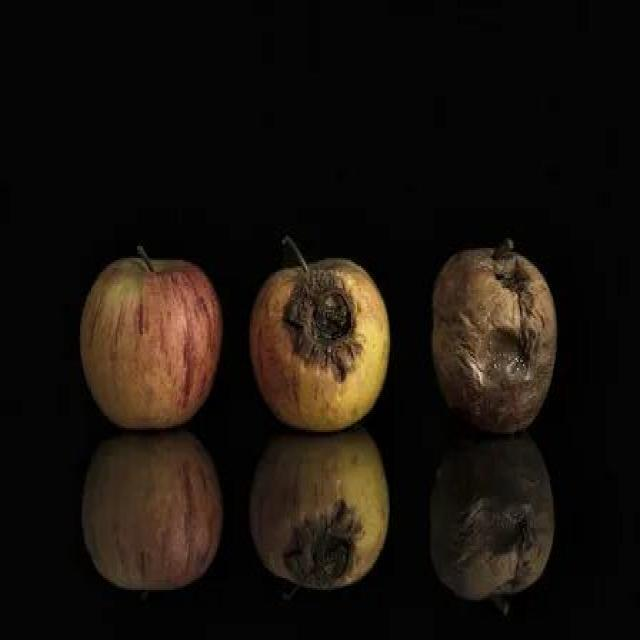Fresh Apple: (80, 264, 225, 424)
Rotten: (236, 254, 392, 428), (425, 252, 562, 430)
